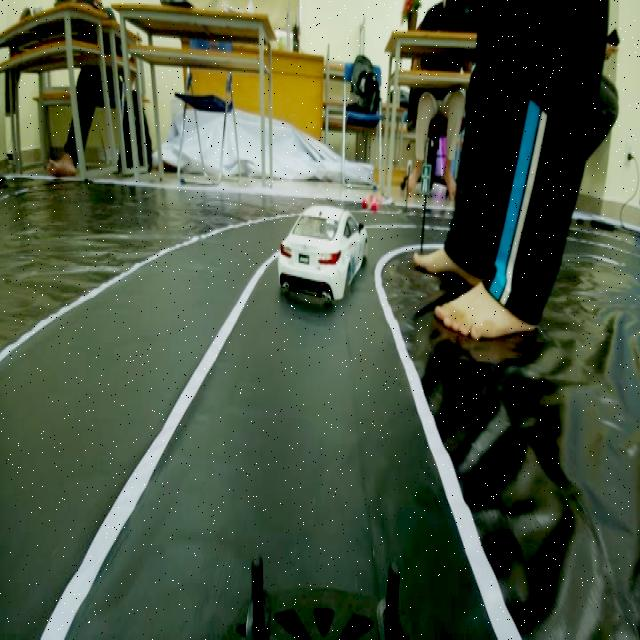car: (276, 192, 367, 313)
